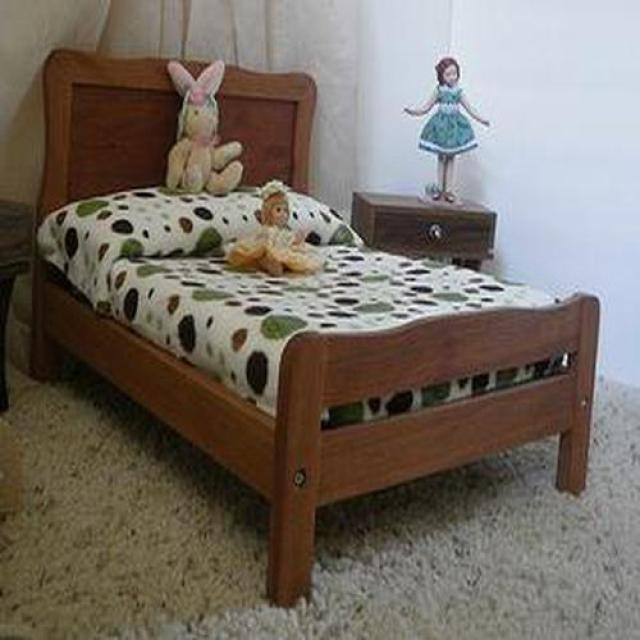bed: (28, 50, 600, 609)
